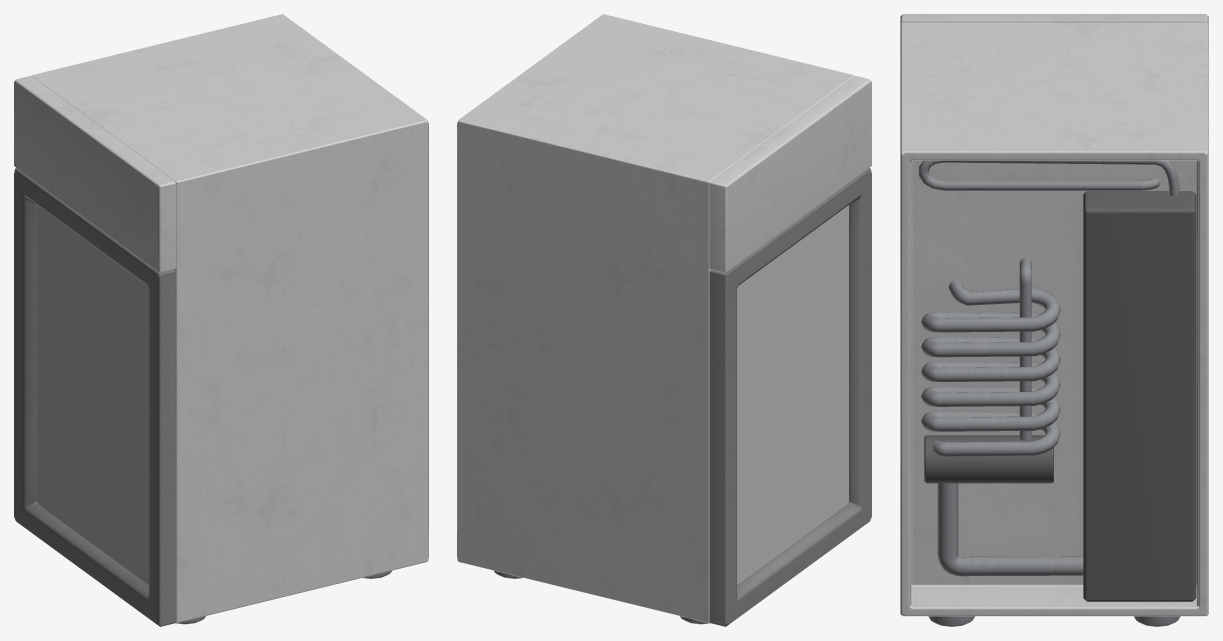
File: SM_Fridge_02.fbx
3 views of the same model, side by side, from view 1: azimuth 30°, elevation 25°; view 2: azimuth 150°, elevation 25°; view 3: azimuth 270°, elevation 25° (orthographic). The views are drawn at different scales.
Visible parts, largest first — view 1: SM_Fridge_02_LOD0; view 2: SM_Fridge_02_LOD0; view 3: SM_Fridge_02_LOD0.
Boxes of the visible parts, <box> form: SM_Fridge_02_LOD0: <box>14,14,428,626</box>; SM_Fridge_02_LOD0: <box>457,14,871,626</box>; SM_Fridge_02_LOD0: <box>900,14,1208,626</box>.
Bounding box in the file's own units: 32.05 × 30 × 52.
Materials: 2 (1 with a texture image).
